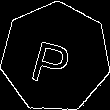P_N: (31, 28, 80, 87)
